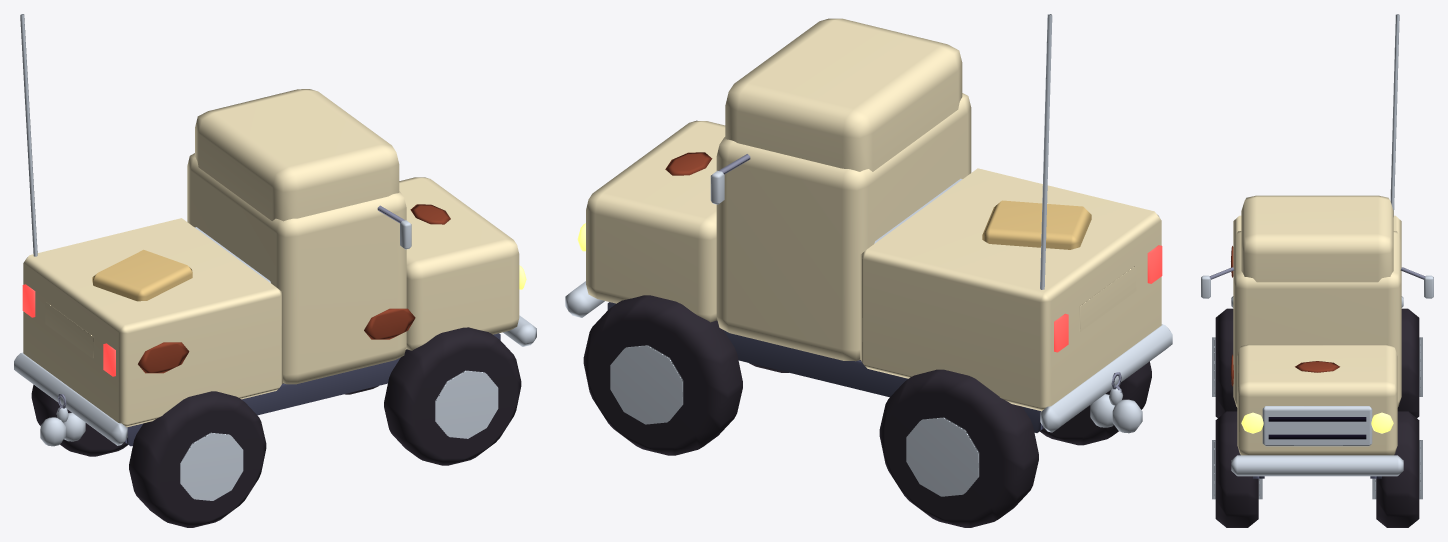
File: pickup_truck.glb
The picture shows the model from 3 angles, left to right: view 1: azimuth 30°, elevation 25°; view 2: azimuth 150°, elevation 25°; view 3: azimuth 270°, elevation 25°; orthographic projection. The views are drawn at different scales.
Visible parts, largest first — view 1: Pickup; view 2: Pickup; view 3: Pickup.
Boxes of the visible parts, left/top/right/bottom form: Pickup: left=14, top=14, right=536, bottom=527; Pickup: left=565, top=14, right=1172, bottom=527; Pickup: left=1201, top=14, right=1433, bottom=527.
Bounding box in the file's own units: 2.17 × 2.11 × 1.19.
